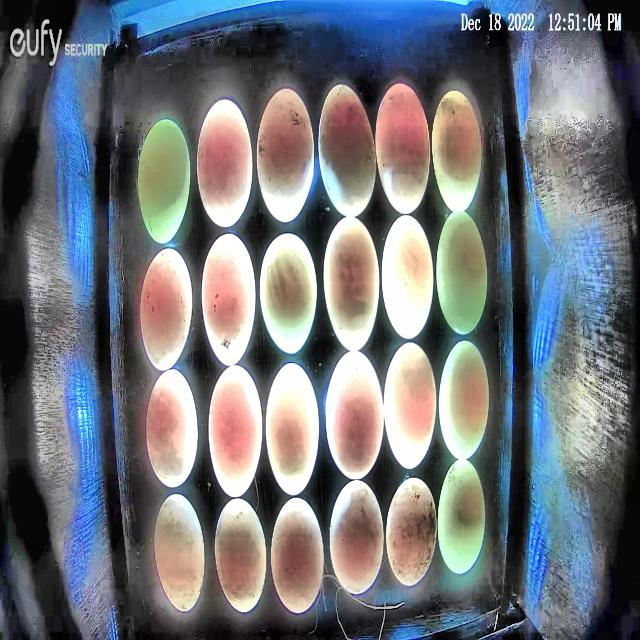UF: (256, 86, 315, 224), (324, 347, 384, 482), (318, 83, 377, 218), (322, 216, 380, 353), (207, 364, 264, 499), (375, 80, 431, 216), (196, 98, 254, 229), (265, 361, 320, 498), (202, 232, 257, 367), (260, 230, 318, 356), (382, 341, 437, 472), (137, 117, 191, 245), (140, 247, 194, 373), (435, 208, 488, 336), (329, 478, 385, 596), (146, 367, 200, 489), (382, 214, 434, 340), (430, 88, 482, 213), (270, 496, 325, 614), (438, 338, 490, 460), (154, 492, 206, 614), (215, 496, 267, 614), (385, 476, 438, 587), (437, 457, 486, 576)
